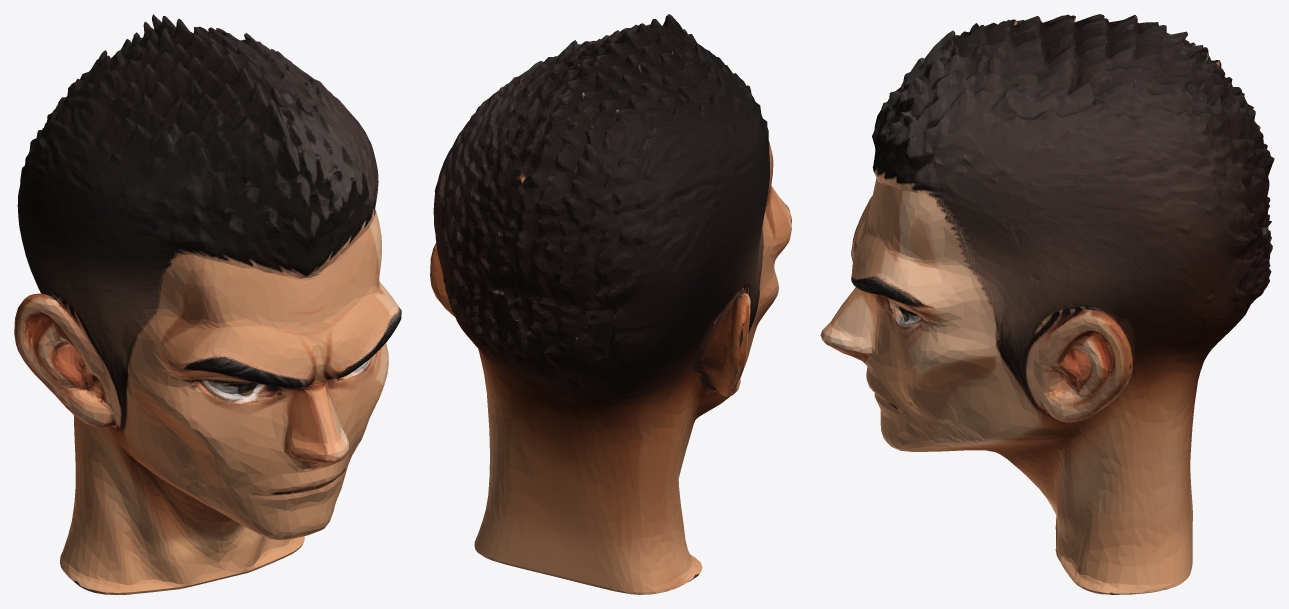
File: side_yasu_repaired_atlas.glb
3 renders of one model, left to right at view 1: azimuth 30°, elevation 25°; view 2: azimuth 150°, elevation 25°; view 3: azimuth 270°, elevation 25°, orthographic. The views are drawn at different scales.
Visible parts, largest first — view 1: temp_mesh.ply; view 2: temp_mesh.ply; view 3: temp_mesh.ply.
Boxes of the visible parts, x1,y1,x2,y2 form: temp_mesh.ply: [14, 14, 401, 594]; temp_mesh.ply: [430, 14, 791, 594]; temp_mesh.ply: [820, 14, 1274, 594].
Size of the model in its own units: 0.8156 by 1.23 by 0.9602.
Materials: 1 (1 with a texture image).
